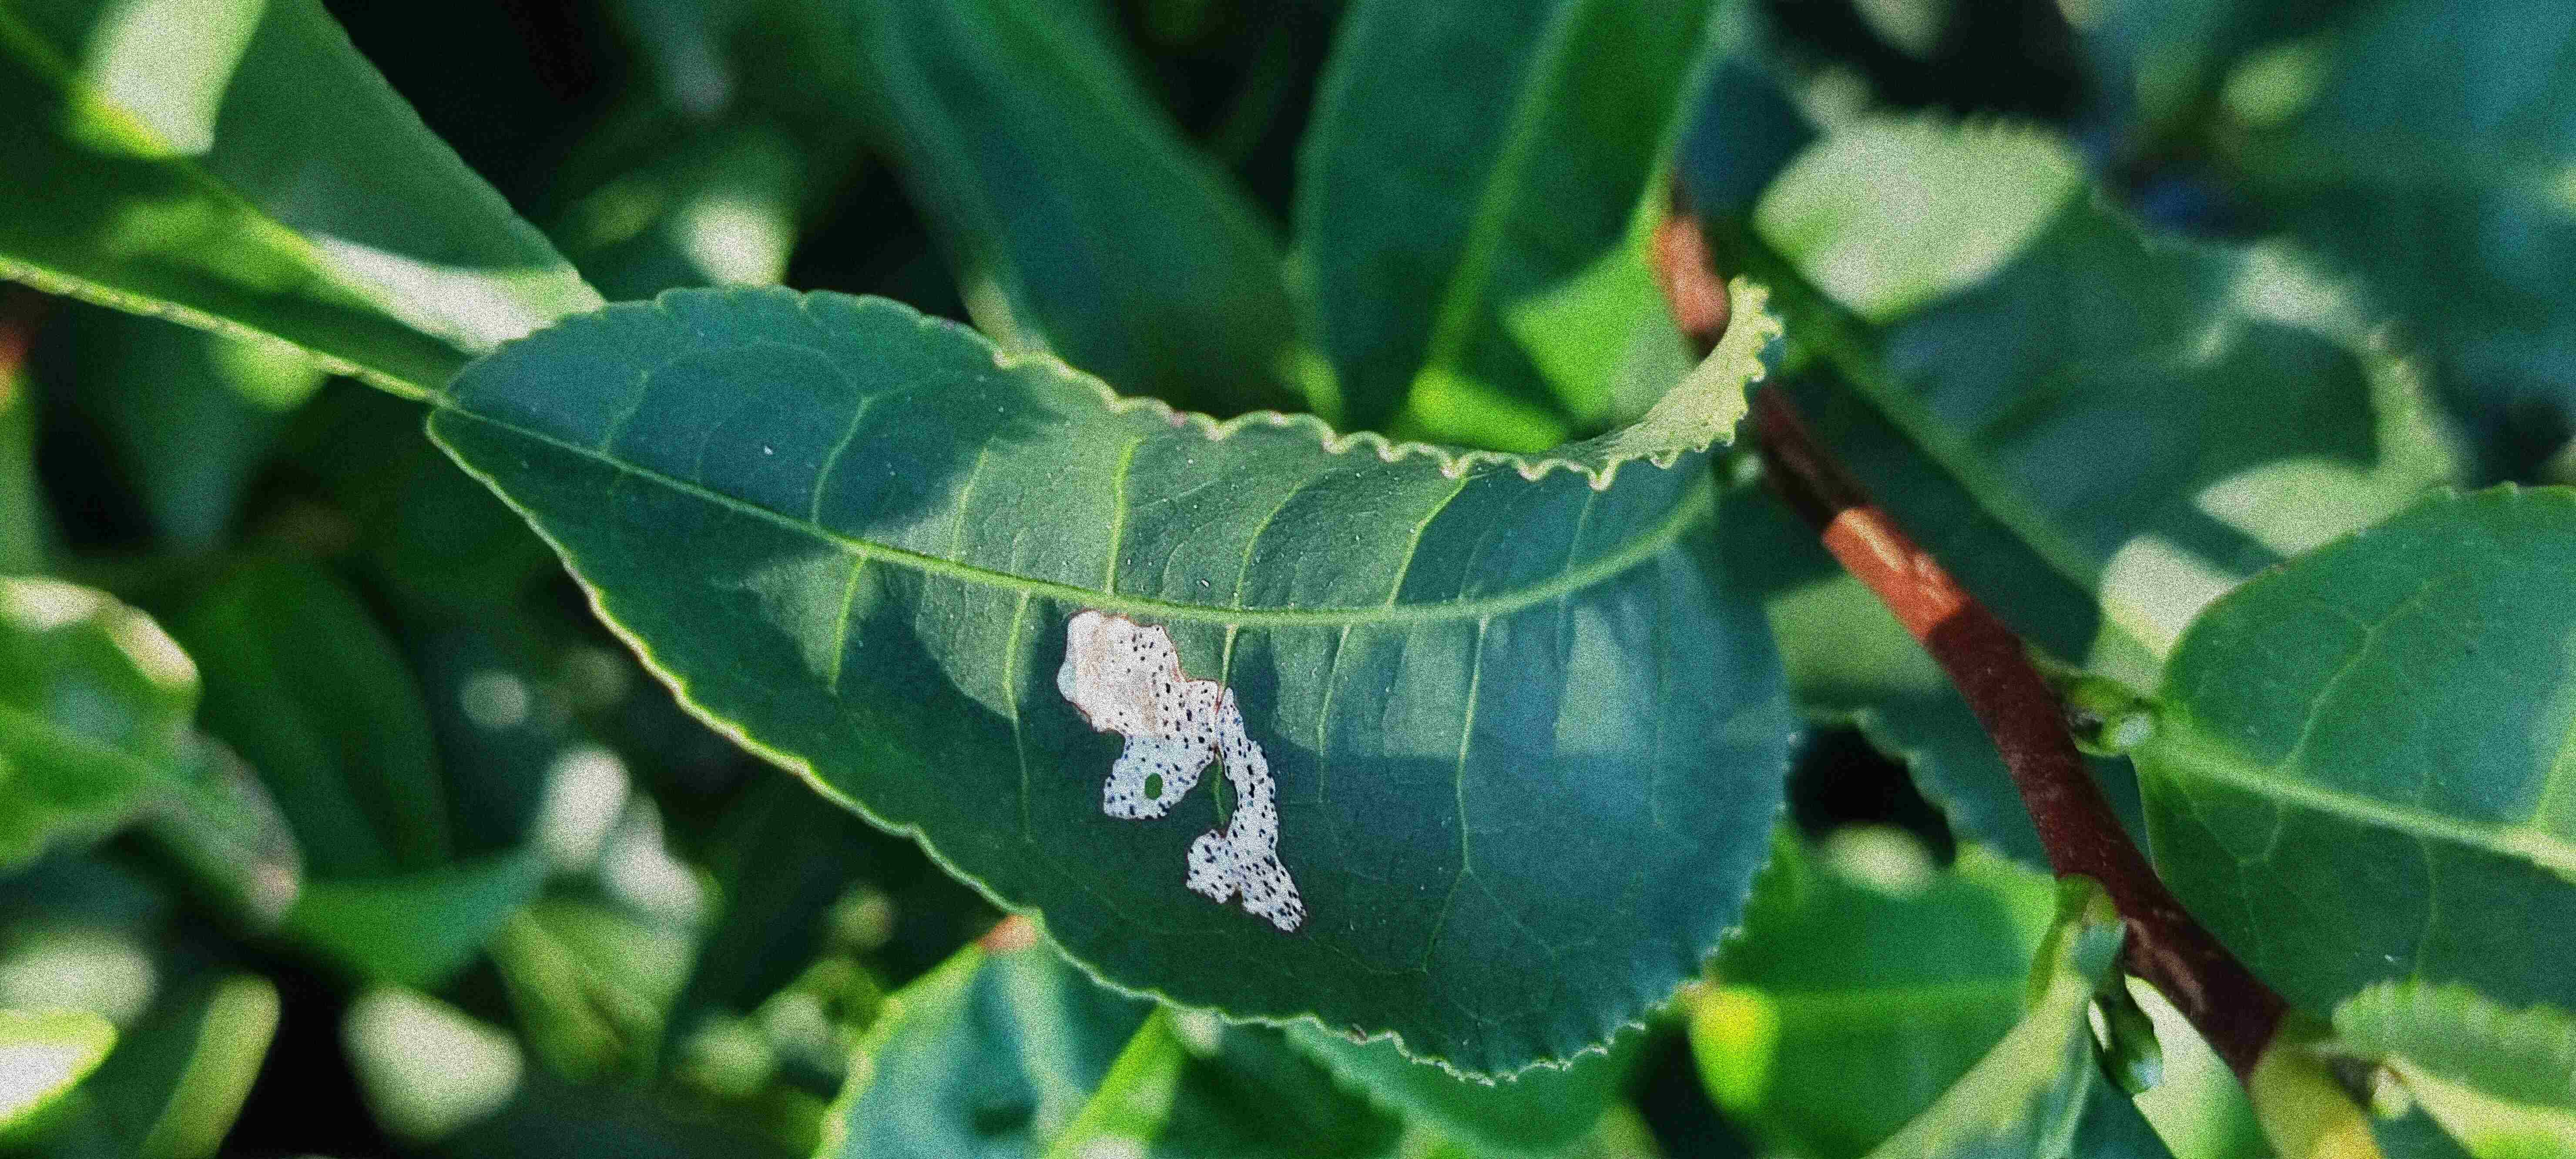tanju_high: (432, 274, 1799, 1082)
